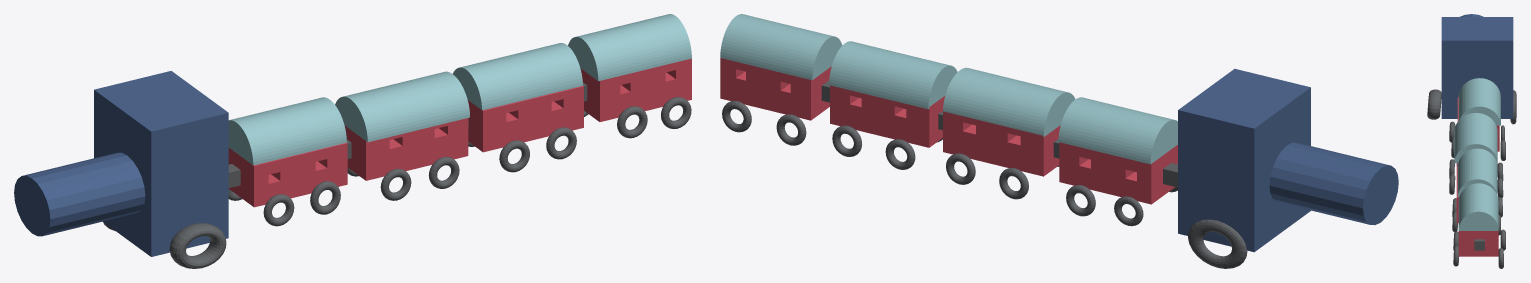
The model's file is Brave Uusam-Juttuli (1).glb.
3 renders of one model, left to right at view 1: azimuth 30°, elevation 25°; view 2: azimuth 150°, elevation 25°; view 3: azimuth 270°, elevation 25°, orthographic. The views are drawn at different scales.
Parts seen in each view (by area): view 1: Mesh_Mesh_head_geo.001_lambert2SG.001; view 2: Mesh_Mesh_head_geo.001_lambert2SG.001; view 3: Mesh_Mesh_head_geo.001_lambert2SG.001.
Boxes of the visible parts, x1,y1,x2,y2 form: Mesh_Mesh_head_geo.001_lambert2SG.001: (14,14,691,268); Mesh_Mesh_head_geo.001_lambert2SG.001: (720,14,1398,268); Mesh_Mesh_head_geo.001_lambert2SG.001: (1427,14,1516,268).
Bounding box in the file's own units: 448 × 98 × 84.73.
